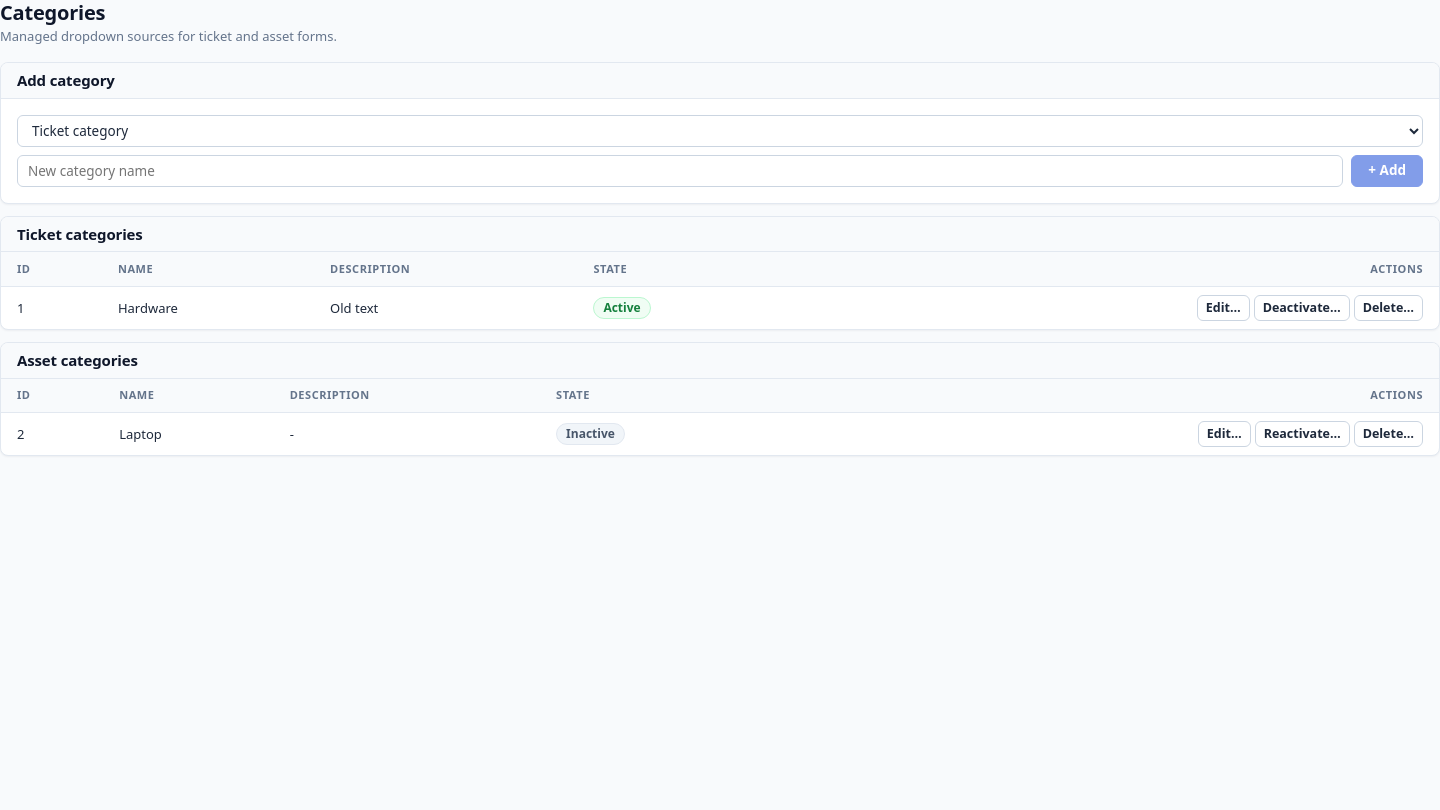
Test: Categories page › edits a ticket category (prefilled name + description)
Expected: the text "Hardware" is shown, [106, 286, 318, 329]
Click the button "Edit…" in the row of "Hardware": (1223, 308) [1197, 295, 1250, 321]
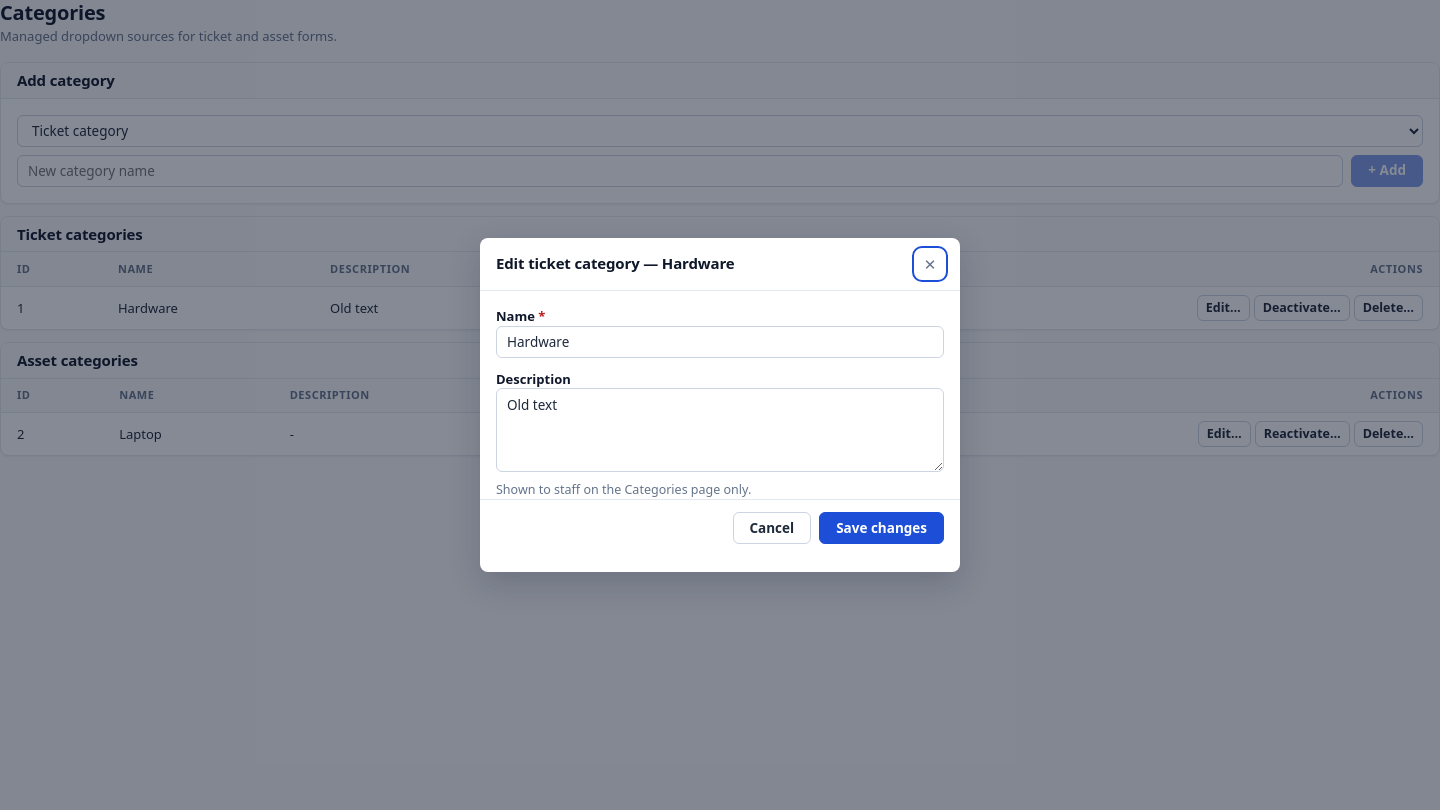
Now the field labelled "Name *" holds "Hardware"
Now the text box labelled "Description" holds "Old text", box [496, 388, 944, 472]
Replace the text in the field labelled "Name *" with "Hardware & Network": (720, 342) [496, 326, 944, 358]
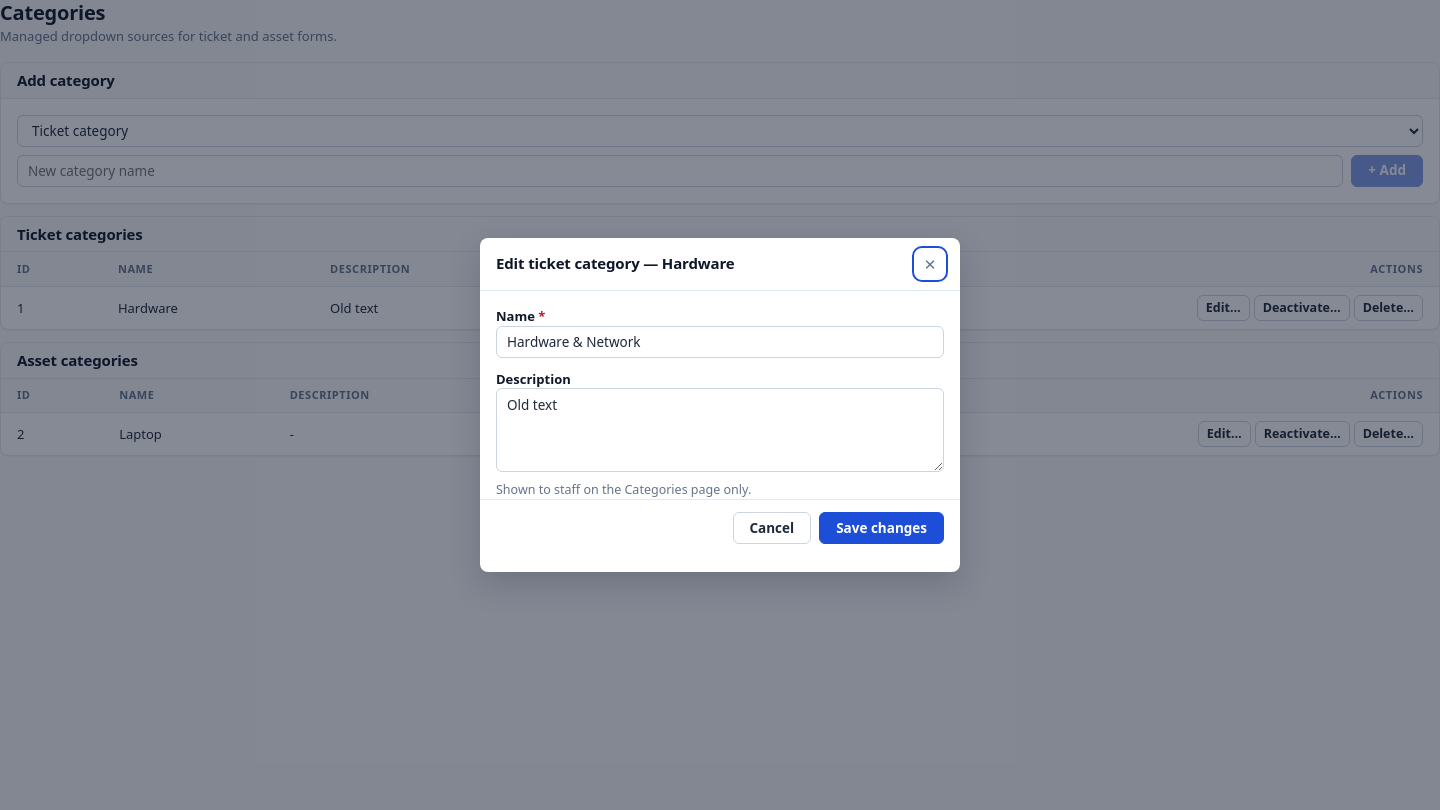
Replace the text in the text box labelled "Description" with "Fix description.": (720, 430) [496, 388, 944, 472]
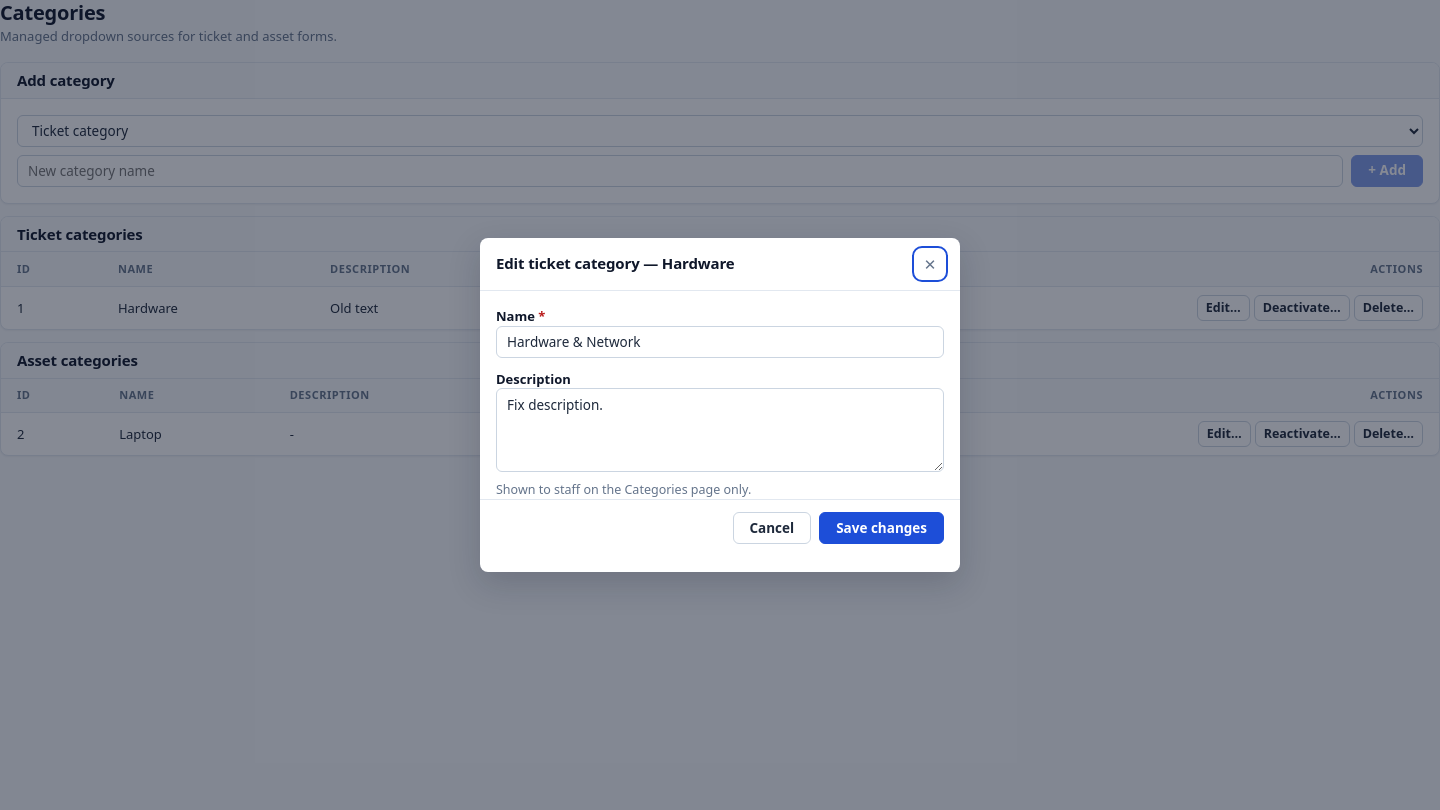
Click the button "Save changes": (882, 528) [819, 512, 944, 544]
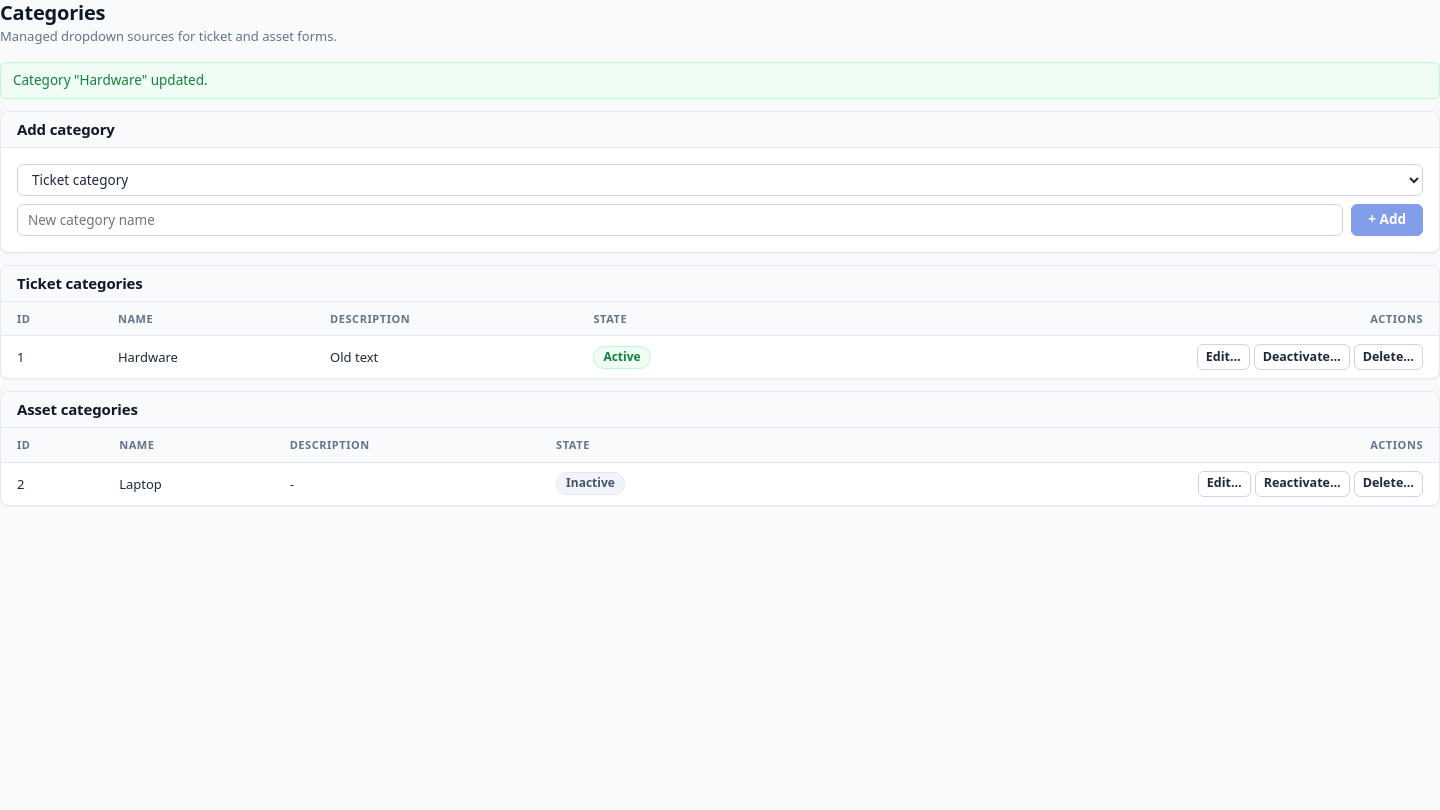
Now the text "Category \"Hardware\" updated." is shown, box [0, 62, 1439, 99]
